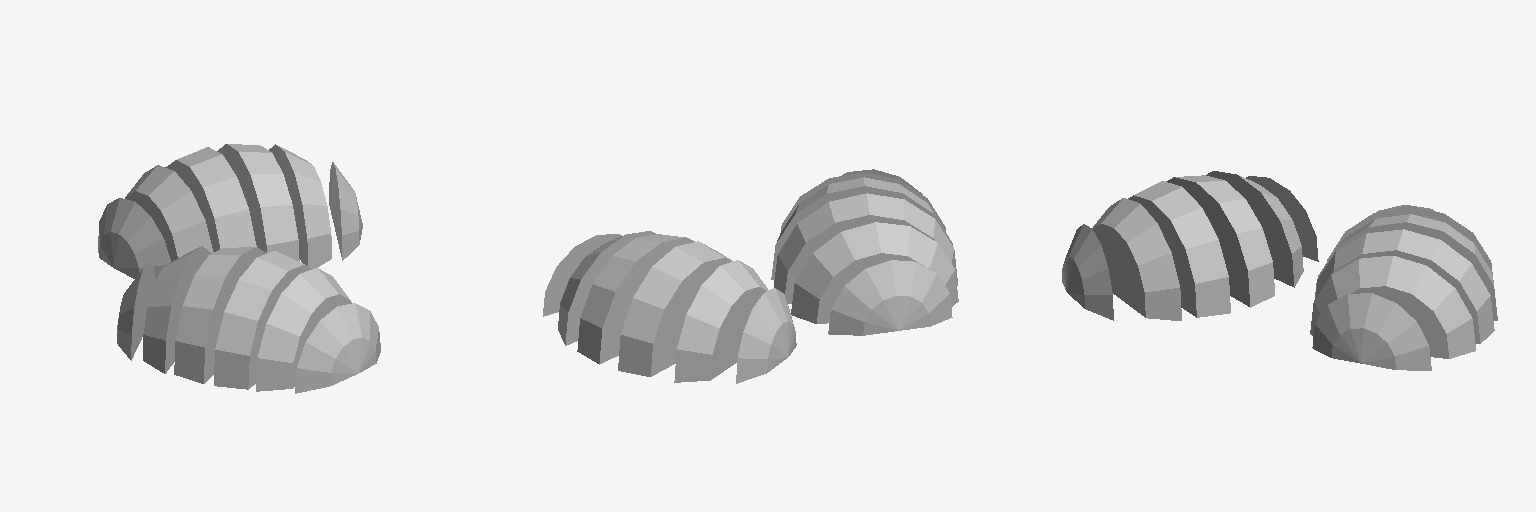
Rendered from onion_chop_2.obj.
3 views of the same model, side by side, from view 1: azimuth 30°, elevation 25°; view 2: azimuth 150°, elevation 25°; view 3: azimuth 270°, elevation 25° (orthographic).
Visible parts, largest first — view 1: Chop_2 Onion2 group1 Slice_10, Chop_2 Onion2 group1 Slice_9, Chop_2 Onion2 group1 Slice_8, Chop_2 Onion2 Slice_7 group1, Chop_2 Onion2 Slice_4, Chop_2 Onion2 Slice_3, Chop_2 Onion2 Slice_6, Chop_2 Onion2 Slice_5, Chop_2 Onion2 group1 Slice_12, Chop_2 Onion2 Slice_2, Chop_2 Onion2 group1 Slice_11, Slice_1 Chop_2 Onion2; view 2: Chop_2 Onion2 Slice_3, Chop_2 Onion2 group1 Slice_12, Chop_2 Onion2 group1 Slice_11, Chop_2 Onion2 Slice_6, Chop_2 Onion2 group1 Slice_9, Chop_2 Onion2 Slice_4, Chop_2 Onion2 Slice_5, Chop_2 Onion2 Slice_2, Chop_2 Onion2 group1 Slice_10, Slice_1 Chop_2 Onion2, Chop_2 Onion2 group1 Slice_8; view 3: Chop_2 Onion2 Slice_2, Chop_2 Onion2 group1 Slice_8, Slice_1 Chop_2 Onion2, Chop_2 Onion2 group1 Slice_10, Chop_2 Onion2 group1 Slice_9, Chop_2 Onion2 Slice_4, Chop_2 Onion2 group1 Slice_12, Chop_2 Onion2 Slice_7 group1, Chop_2 Onion2 Slice_3, Chop_2 Onion2 group1 Slice_11, Chop_2 Onion2 Slice_6.
Boxes of the visible parts, x1=… form: Chop_2 Onion2 group1 Slice_10: x1=214, y1=251, x2=311, y2=389; Chop_2 Onion2 group1 Slice_9: x1=174, y1=247, x2=266, y2=383; Chop_2 Onion2 group1 Slice_8: x1=256, y1=268, x2=351, y2=391; Chop_2 Onion2 Slice_7 group1: x1=295, y1=303, x2=380, y2=393; Chop_2 Onion2 Slice_4: x1=217, y1=144, x2=299, y2=261; Chop_2 Onion2 Slice_3: x1=165, y1=147, x2=256, y2=251; Chop_2 Onion2 Slice_6: x1=125, y1=165, x2=213, y2=261; Chop_2 Onion2 Slice_5: x1=98, y1=198, x2=170, y2=278; Chop_2 Onion2 group1 Slice_12: x1=143, y1=246, x2=211, y2=373; Chop_2 Onion2 Slice_2: x1=269, y1=144, x2=331, y2=268; Chop_2 Onion2 group1 Slice_11: x1=117, y1=262, x2=155, y2=360; Slice_1 Chop_2 Onion2: x1=329, y1=162, x2=362, y2=260; Chop_2 Onion2 Slice_3: x1=618, y1=241, x2=732, y2=376; Chop_2 Onion2 group1 Slice_12: x1=791, y1=222, x2=958, y2=323; Chop_2 Onion2 group1 Slice_11: x1=828, y1=260, x2=952, y2=335; Chop_2 Onion2 Slice_6: x1=674, y1=260, x2=768, y2=382; Chop_2 Onion2 group1 Slice_9: x1=774, y1=193, x2=957, y2=303; Chop_2 Onion2 Slice_4: x1=577, y1=234, x2=694, y2=364; Chop_2 Onion2 Slice_5: x1=736, y1=288, x2=796, y2=383; Chop_2 Onion2 Slice_2: x1=558, y1=231, x2=655, y2=345; Chop_2 Onion2 group1 Slice_10: x1=771, y1=177, x2=952, y2=279; Slice_1 Chop_2 Onion2: x1=543, y1=234, x2=621, y2=316; Chop_2 Onion2 group1 Slice_8: x1=781, y1=172, x2=945, y2=230; Chop_2 Onion2 Slice_2: x1=1310, y1=256, x2=1475, y2=358; Chop_2 Onion2 group1 Slice_8: x1=1092, y1=198, x2=1181, y2=320; Slice_1 Chop_2 Onion2: x1=1312, y1=293, x2=1431, y2=370; Chop_2 Onion2 group1 Slice_10: x1=1128, y1=181, x2=1230, y2=317; Chop_2 Onion2 group1 Slice_9: x1=1166, y1=175, x2=1274, y2=307; Chop_2 Onion2 Slice_4: x1=1315, y1=229, x2=1494, y2=343; Chop_2 Onion2 group1 Slice_12: x1=1206, y1=171, x2=1303, y2=287; Chop_2 Onion2 Slice_7 group1: x1=1062, y1=224, x2=1113, y2=320; Chop_2 Onion2 Slice_3: x1=1318, y1=214, x2=1497, y2=320; Chop_2 Onion2 group1 Slice_11: x1=1246, y1=176, x2=1318, y2=261; Chop_2 Onion2 Slice_6: x1=1327, y1=206, x2=1494, y2=289.
Size of the model in its own units: 0.7585 by 0.2264 by 0.9263.